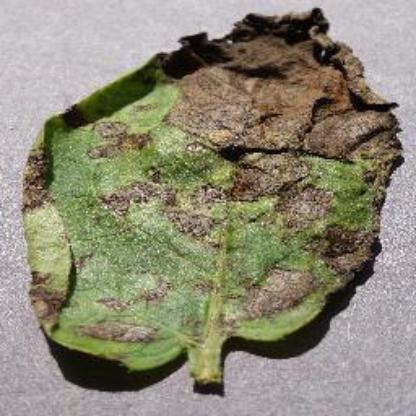Early-Blight: (17, 6, 406, 392)
